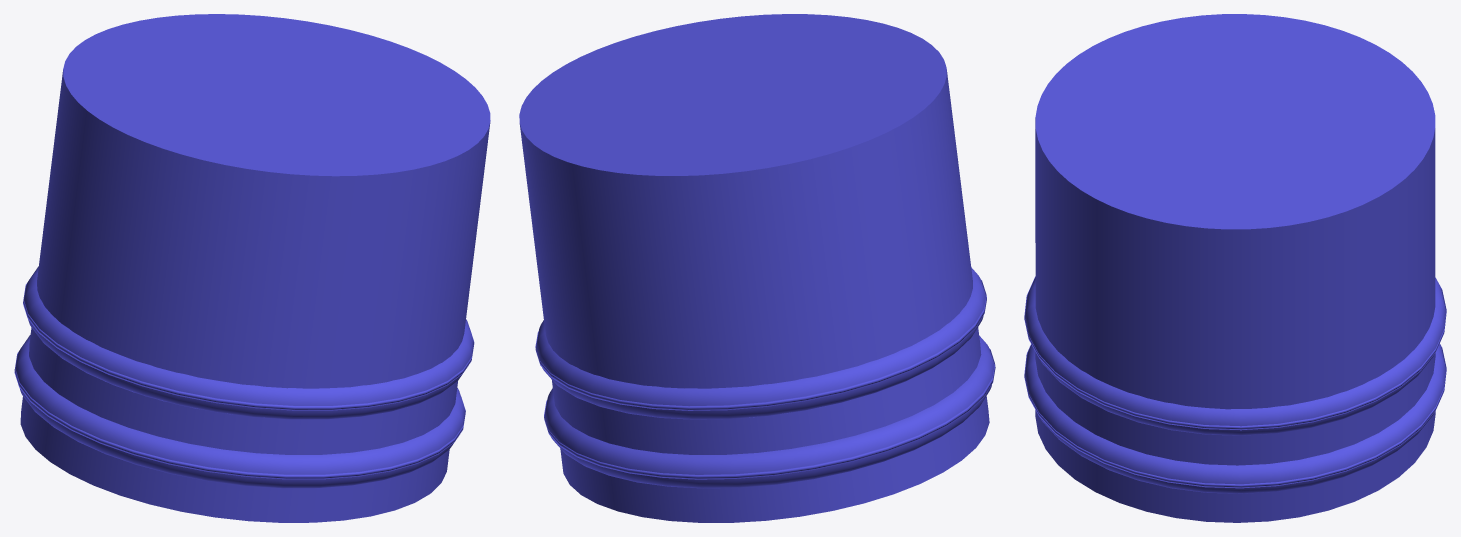
Rendered from bombilla162.obj.
The picture shows the model from 3 angles, left to right: view 1: azimuth 30°, elevation 25°; view 2: azimuth 150°, elevation 25°; view 3: azimuth 270°, elevation 25°; orthographic projection. The views are drawn at different scales.
Parts seen in each view (by area): view 1: Cylinder001, Cylinder004, Cylinder003, Cylinder006, Cylinder002; view 2: Cylinder001, Cylinder004, Cylinder003, Cylinder006, Cylinder002; view 3: Cylinder001, Cylinder004, Cylinder002, Cylinder003, Cylinder006.
Part boxes in pixels (left/top/right/bottom): Cylinder001: left=37, top=14, right=490, bottom=388; Cylinder004: left=14, top=335, right=465, bottom=488; Cylinder003: left=29, top=327, right=458, bottom=454; Cylinder006: left=20, top=396, right=449, bottom=522; Cylinder002: left=23, top=266, right=474, bottom=419; Cylinder001: left=519, top=14, right=972, bottom=388; Cylinder004: left=544, top=336, right=995, bottom=488; Cylinder003: left=552, top=327, right=981, bottom=454; Cylinder006: left=560, top=396, right=989, bottom=522; Cylinder002: left=535, top=267, right=986, bottom=419; Cylinder001: left=1035, top=14, right=1435, bottom=409; Cylinder004: left=1024, top=343, right=1446, bottom=493; Cylinder002: left=1024, top=276, right=1446, bottom=435; Cylinder003: left=1035, top=352, right=1435, bottom=465; Cylinder006: left=1035, top=410, right=1435, bottom=522.
Bounding box in the file's own units: 76.47 × 68.09 × 72.21.
